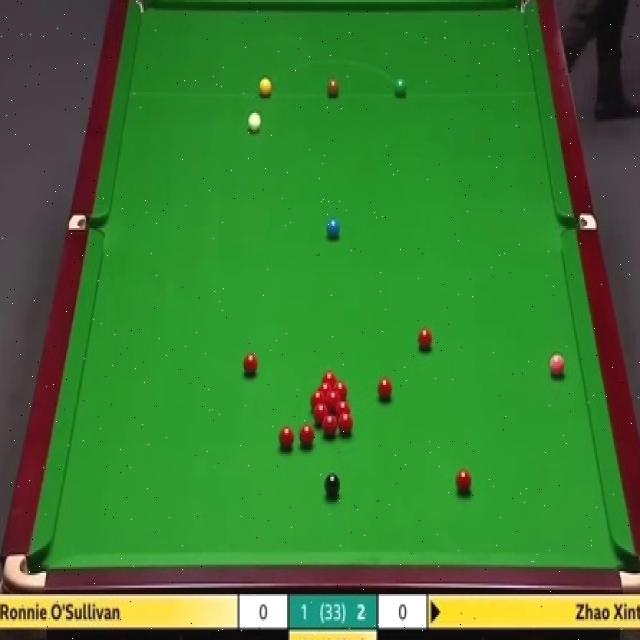black-ball: (324, 472, 340, 499)
blue-ball: (326, 218, 340, 236)
brown-ball: (326, 80, 340, 96)
green-ball: (394, 75, 408, 100)
pink-ball: (548, 352, 566, 378)
red-ball: (376, 376, 393, 403), (279, 423, 294, 450), (456, 469, 472, 494), (298, 425, 313, 451), (244, 352, 258, 378), (323, 414, 339, 436), (418, 327, 432, 352), (327, 390, 342, 413), (314, 402, 327, 425), (338, 414, 352, 435), (310, 391, 326, 409), (332, 381, 347, 400), (336, 402, 351, 418), (317, 381, 334, 394), (322, 369, 338, 382)
white-ball: (249, 112, 262, 133)
yellow-ball: (258, 76, 270, 98)
